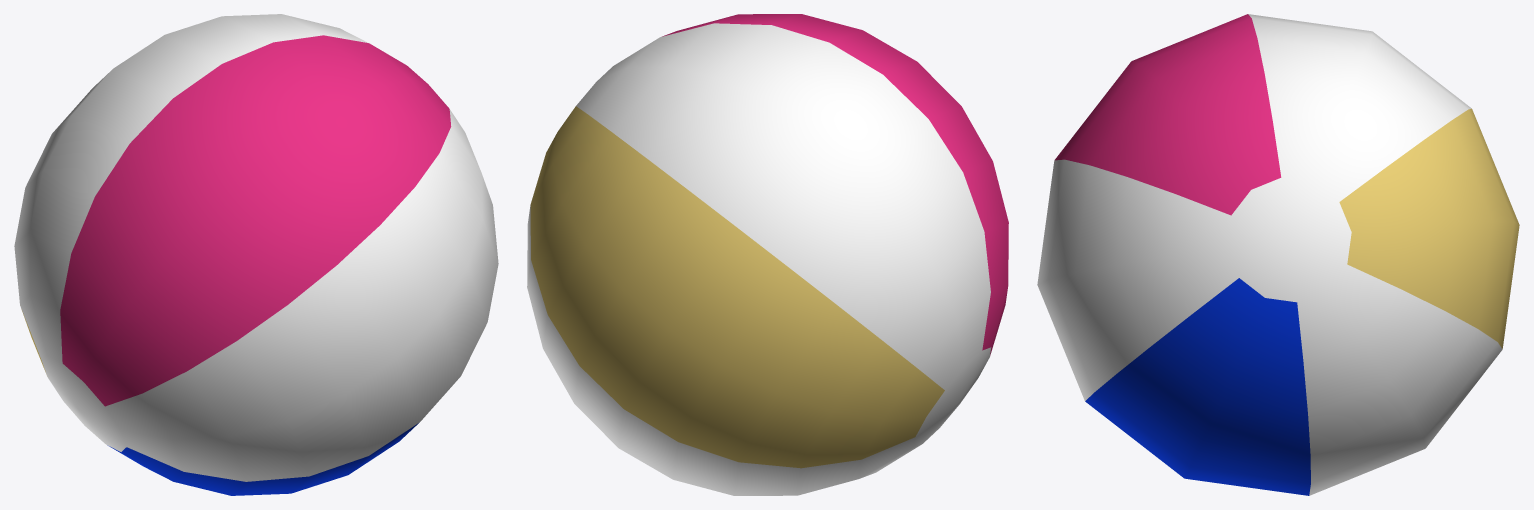
The model's file is BALL.fbx.
3 renders of one model, left to right at view 1: azimuth 30°, elevation 25°; view 2: azimuth 150°, elevation 25°; view 3: azimuth 270°, elevation 25°, orthographic.
Visible parts, largest first — view 1: Sphere; view 2: Sphere; view 3: Sphere.
Boxes of the visible parts, x1,y1,x2,y2 form: Sphere: [14, 14, 498, 495]; Sphere: [527, 14, 1008, 495]; Sphere: [1037, 14, 1519, 495].
Bounding box in the file's own units: 199 × 199 × 198.
